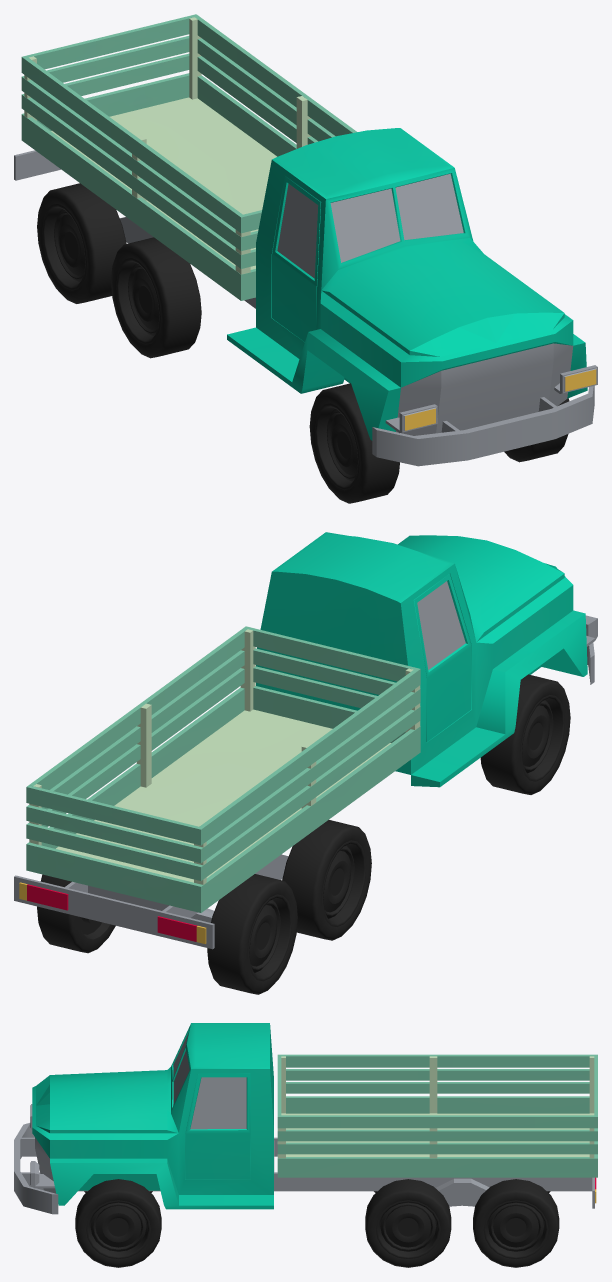
The model's file is truck.fbx.
3 renders of one model, top to bottom at view 1: azimuth 30°, elevation 25°; view 2: azimuth 150°, elevation 25°; view 3: azimuth 270°, elevation 25°, orthographic. The views are drawn at different scales.
Parts seen in each view (by area): view 1: truck, kapak; view 2: truck, kapak; view 3: truck, kapak.
Boxes of the visible parts, left/top/right/bottom form: truck: left=14, top=16, right=597, bottom=503; kapak: left=21, top=14, right=198, bottom=141; truck: left=14, top=532, right=597, bottom=994; kapak: left=26, top=785, right=203, bottom=912; truck: left=14, top=1023, right=596, bottom=1267; kapak: left=594, top=1054, right=597, bottom=1177.
Bounding box in the file's own units: 2.49 × 2.88 × 7.94.
